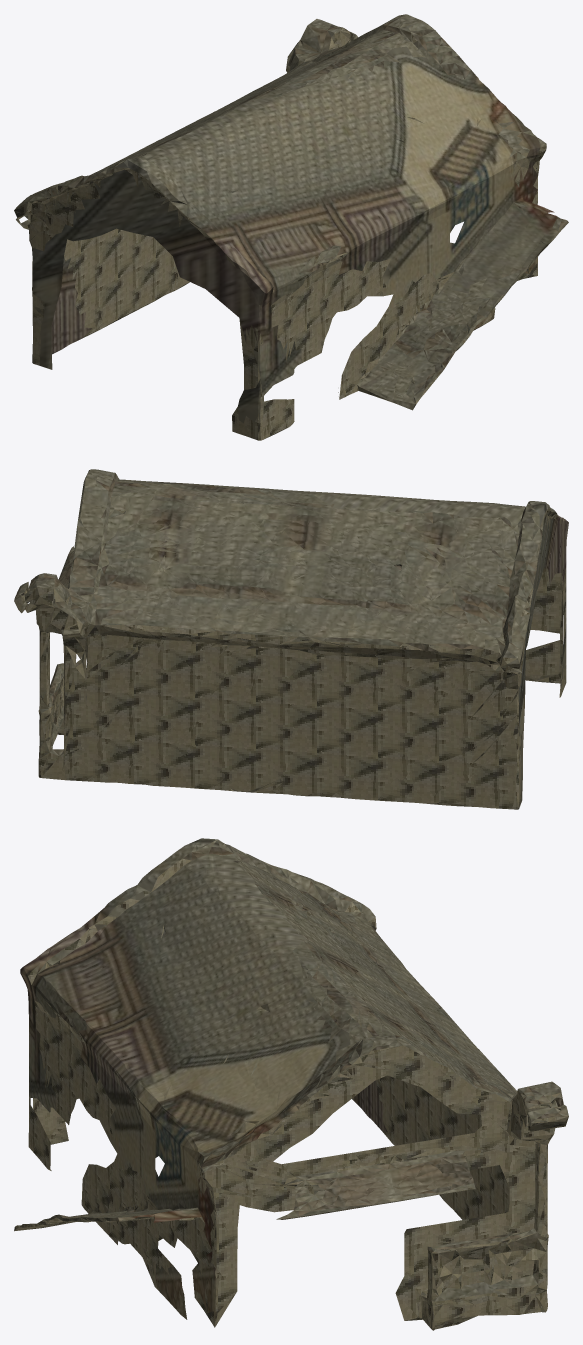
The picture shows the model from 3 angles, top to bottom: view 1: azimuth 30°, elevation 25°; view 2: azimuth 150°, elevation 25°; view 3: azimuth 270°, elevation 25°; orthographic projection. The views are drawn at different scales.
Visible parts, largest first — view 1: painted, wall, roof; view 2: wall, roof, painted; view 3: painted, wall, roof.
Boxes of the visible parts, left/top/right/bottom form: painted: left=32, top=46, right=568, bottom=423; wall: left=14, top=28, right=546, bottom=440; roof: left=14, top=14, right=565, bottom=410; wall: left=14, top=474, right=566, bottom=809; roof: left=14, top=469, right=544, bottom=756; painted: left=253, top=487, right=568, bottom=804; painted: left=20, top=838, right=387, bottom=1326; wall: left=14, top=851, right=568, bottom=1330; roof: left=18, top=839, right=568, bottom=1301.
Size of the model in its own units: 7.85 by 3.83 by 6.84.
3 materials, 3 textured.
